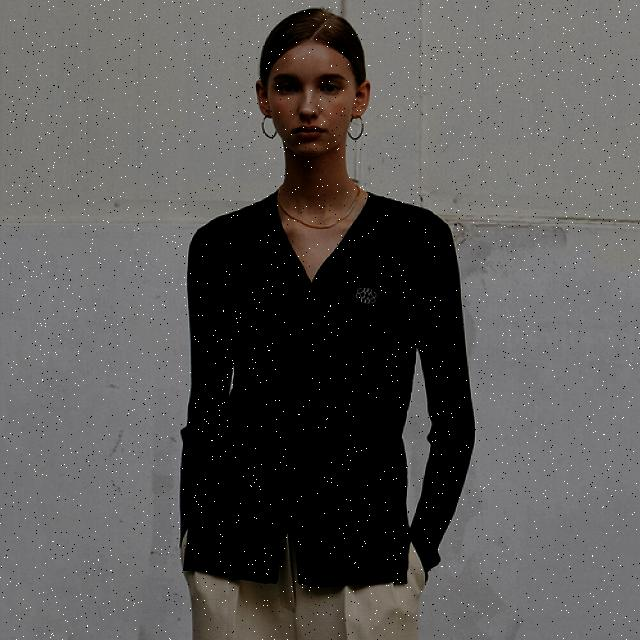dress: (178, 195, 474, 580)
